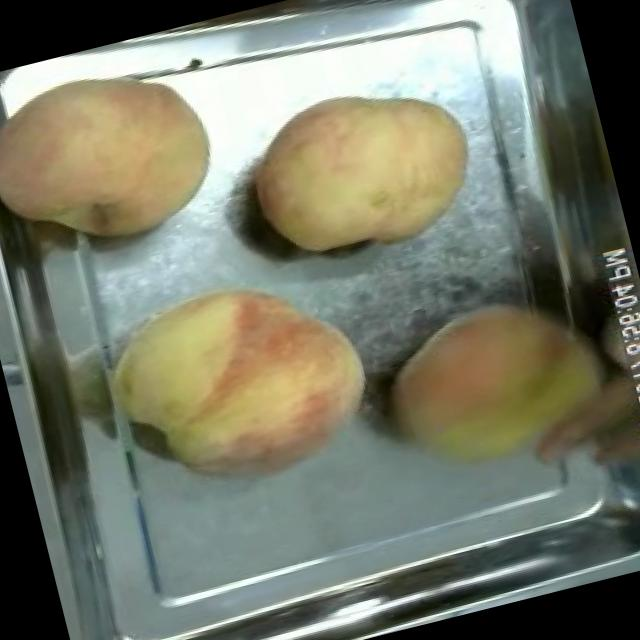Fruit: (90, 244, 393, 515), (362, 264, 640, 504), (226, 57, 500, 286), (0, 30, 240, 276)
